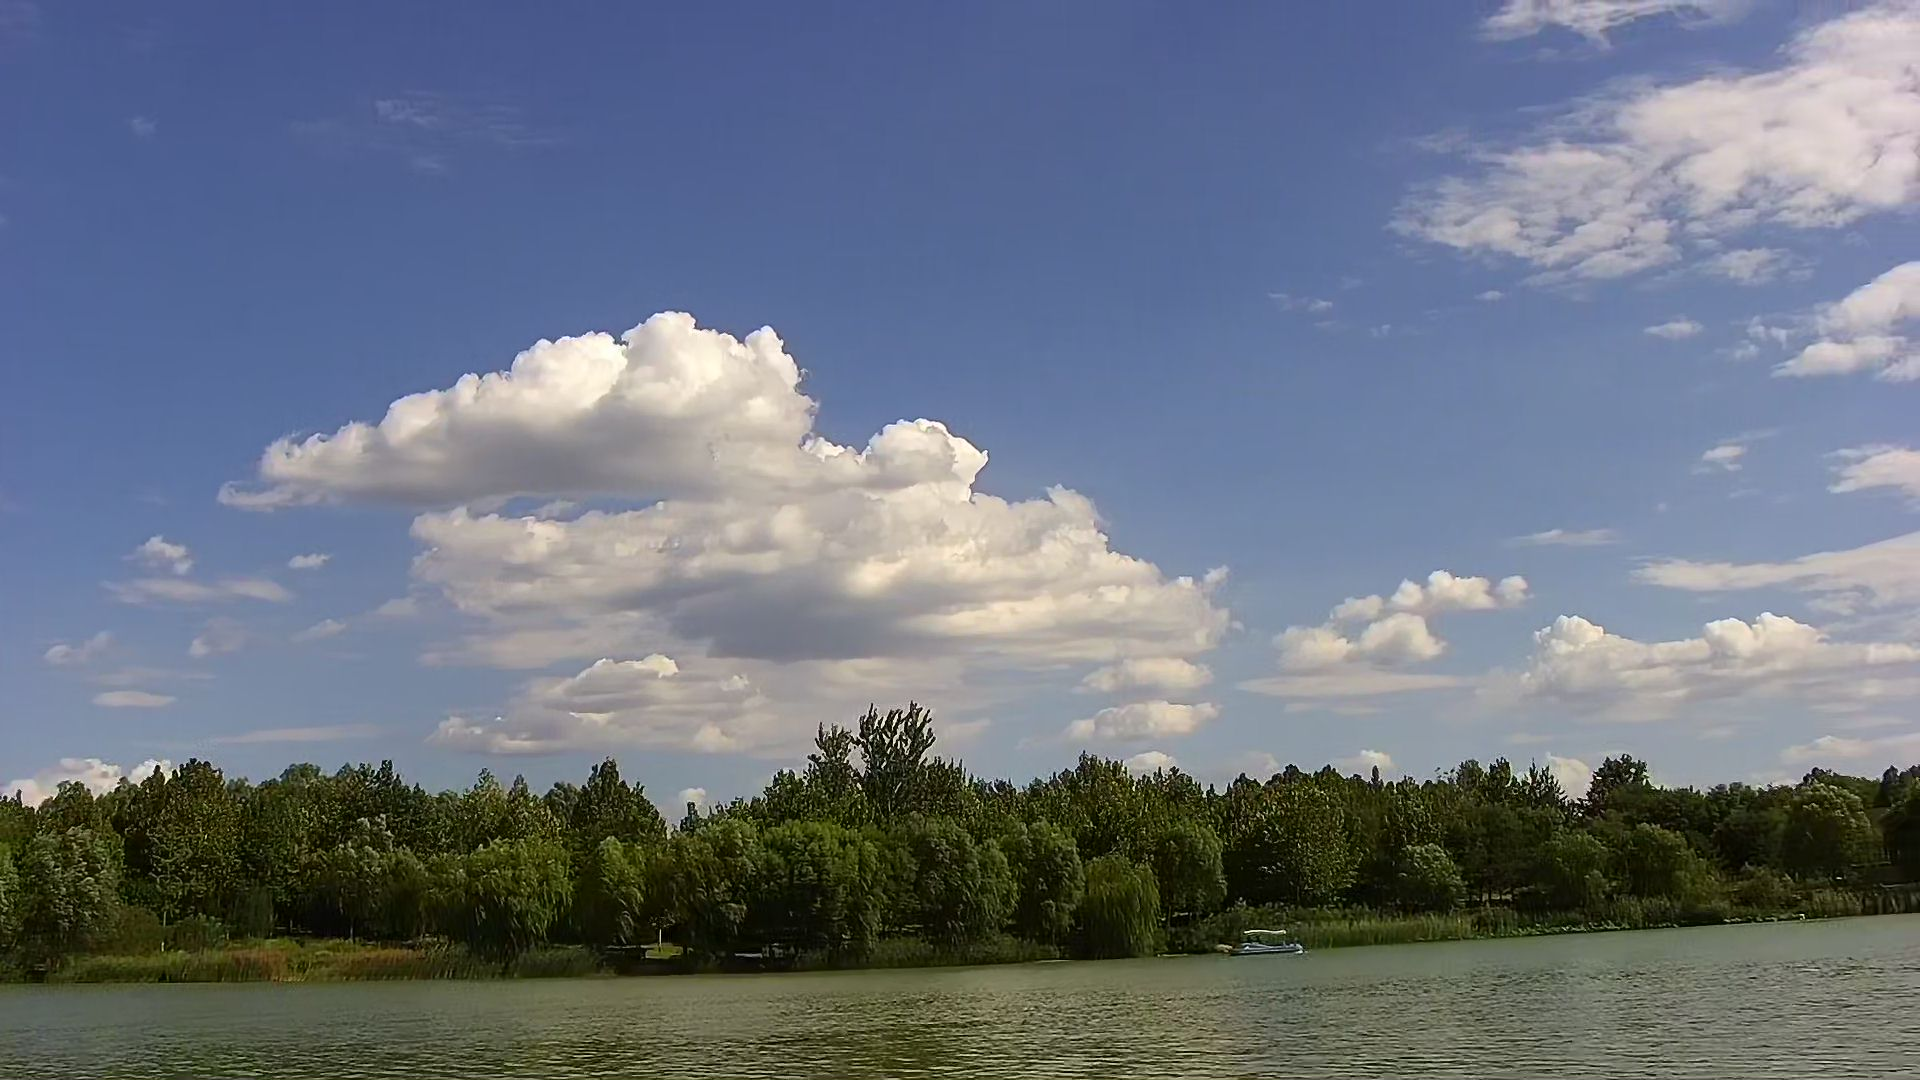boat: (1240, 923, 1303, 953)
rock: (1215, 939, 1230, 952)
